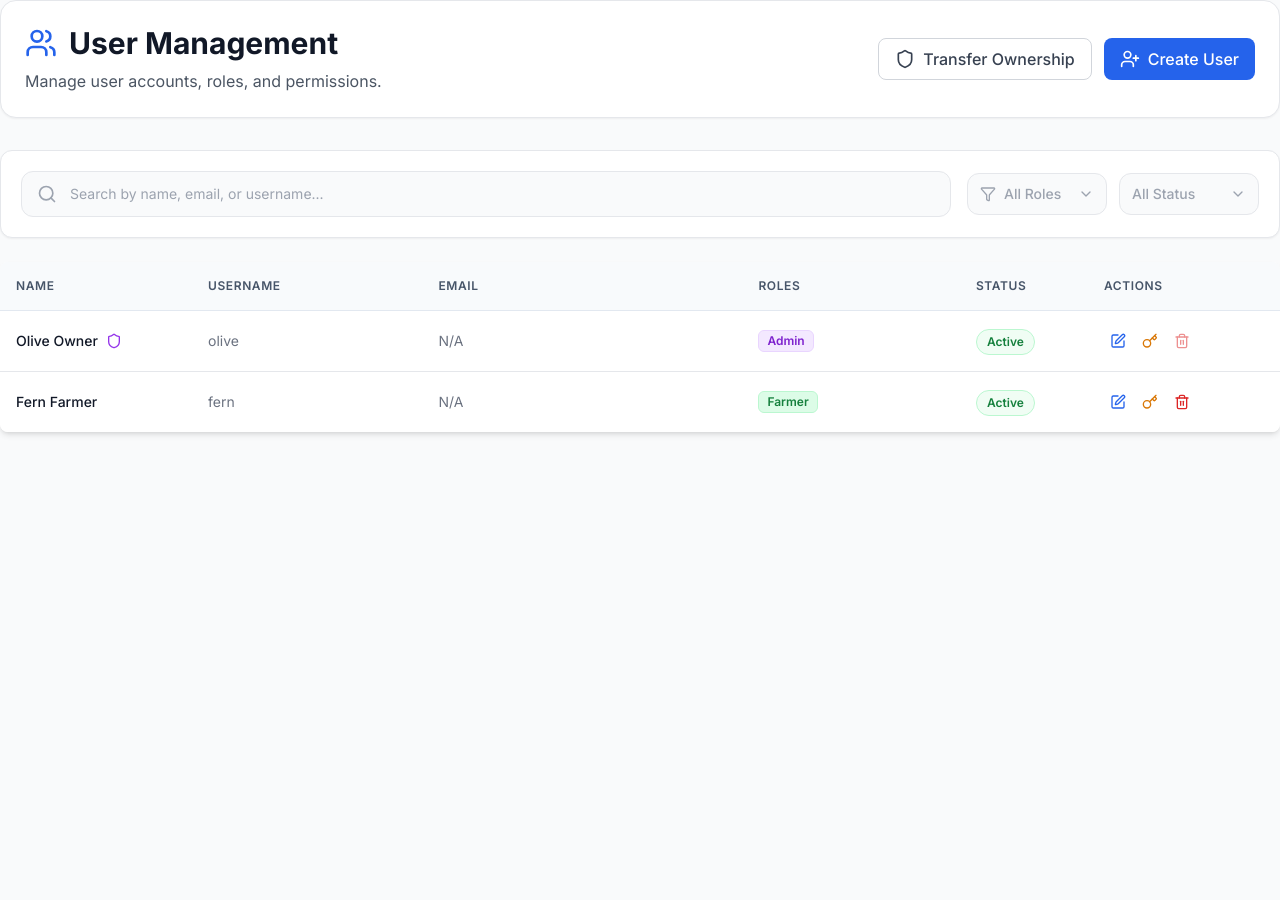
Test case: UserManagement password reset feedback › keeps the popup open with the reason when the reset fails, then retries
The width and height of the screenshot is (1280, 900).
Check: the text "Fern Farmer" is shown, box x1=16 y1=392 x2=97 y2=412
Step 1. Click the button titled "Reset password" in the row of "Fern Farmer" → {"x": 1150, "y": 402}, box x1=1136 y1=388 x2=1164 y2=416
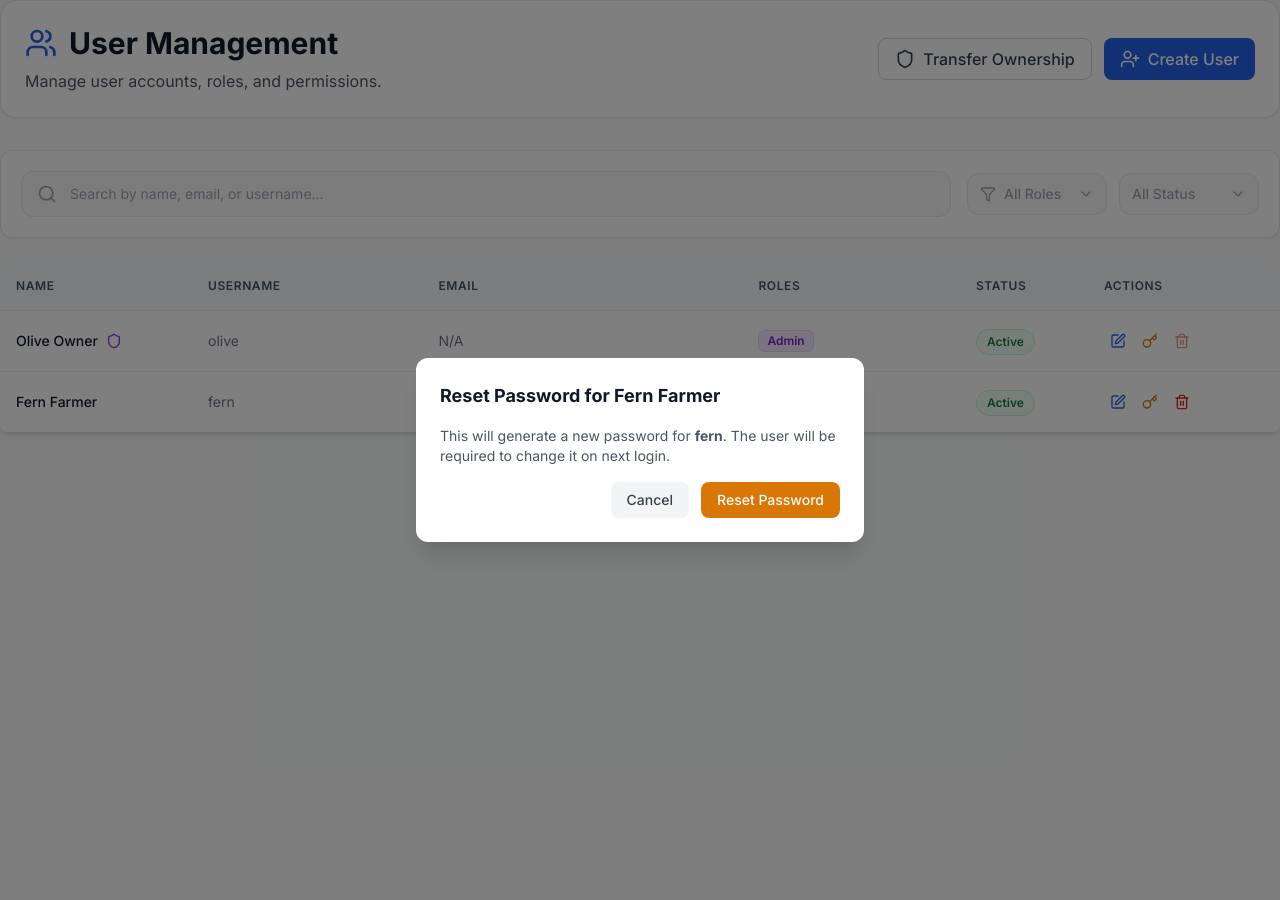
Step 2. Click the button "Reset Password" → {"x": 770, "y": 500}, box x1=701 y1=482 x2=840 y2=518
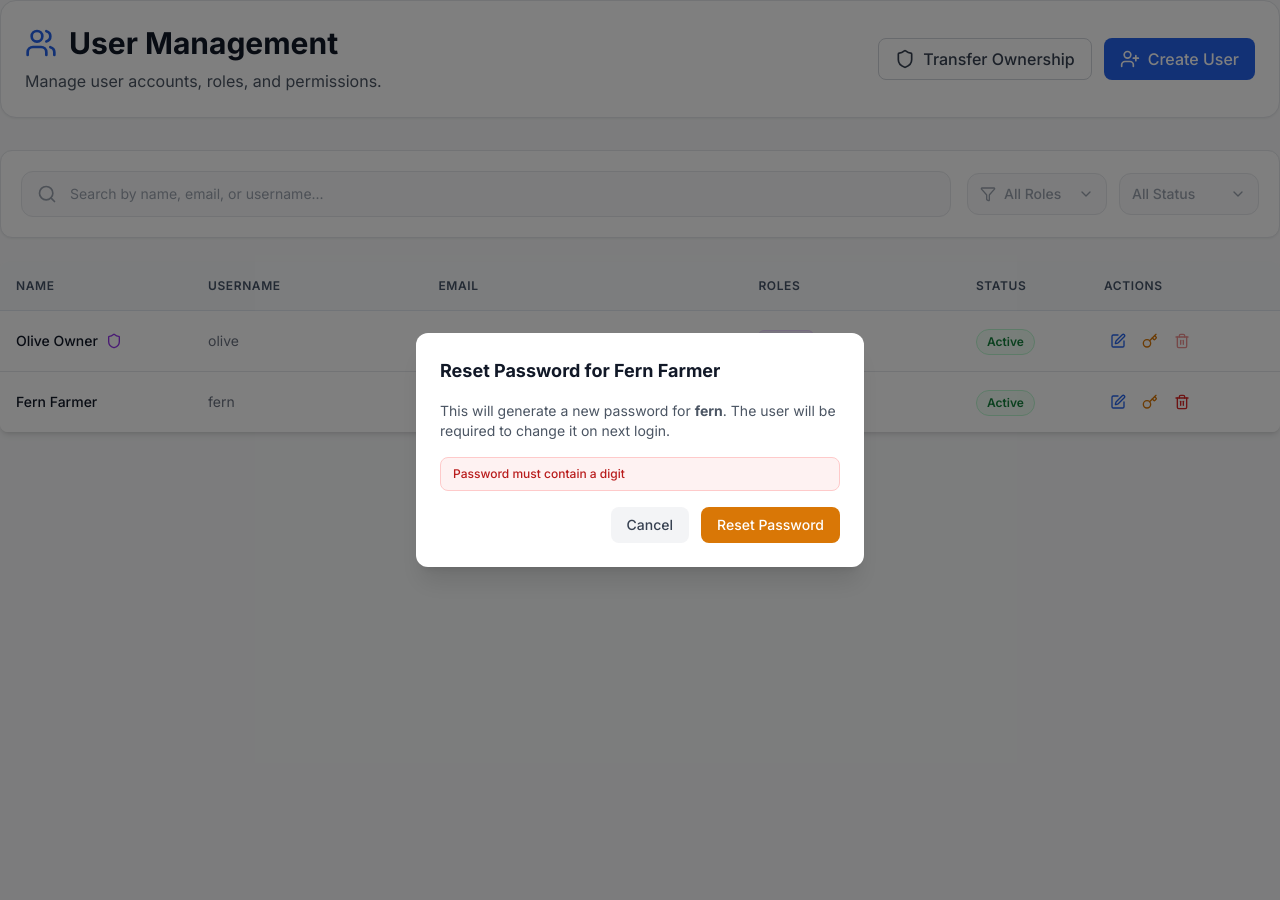
Check: the heading "Reset Password for Fern Farmer" is shown, box x1=440 y1=360 x2=720 y2=381
Check: the message reads "Password must contain a digit", box x1=453 y1=466 x2=625 y2=481
Step 3. Click the button "Reset Password" → {"x": 770, "y": 525}, box x1=701 y1=507 x2=840 y2=543
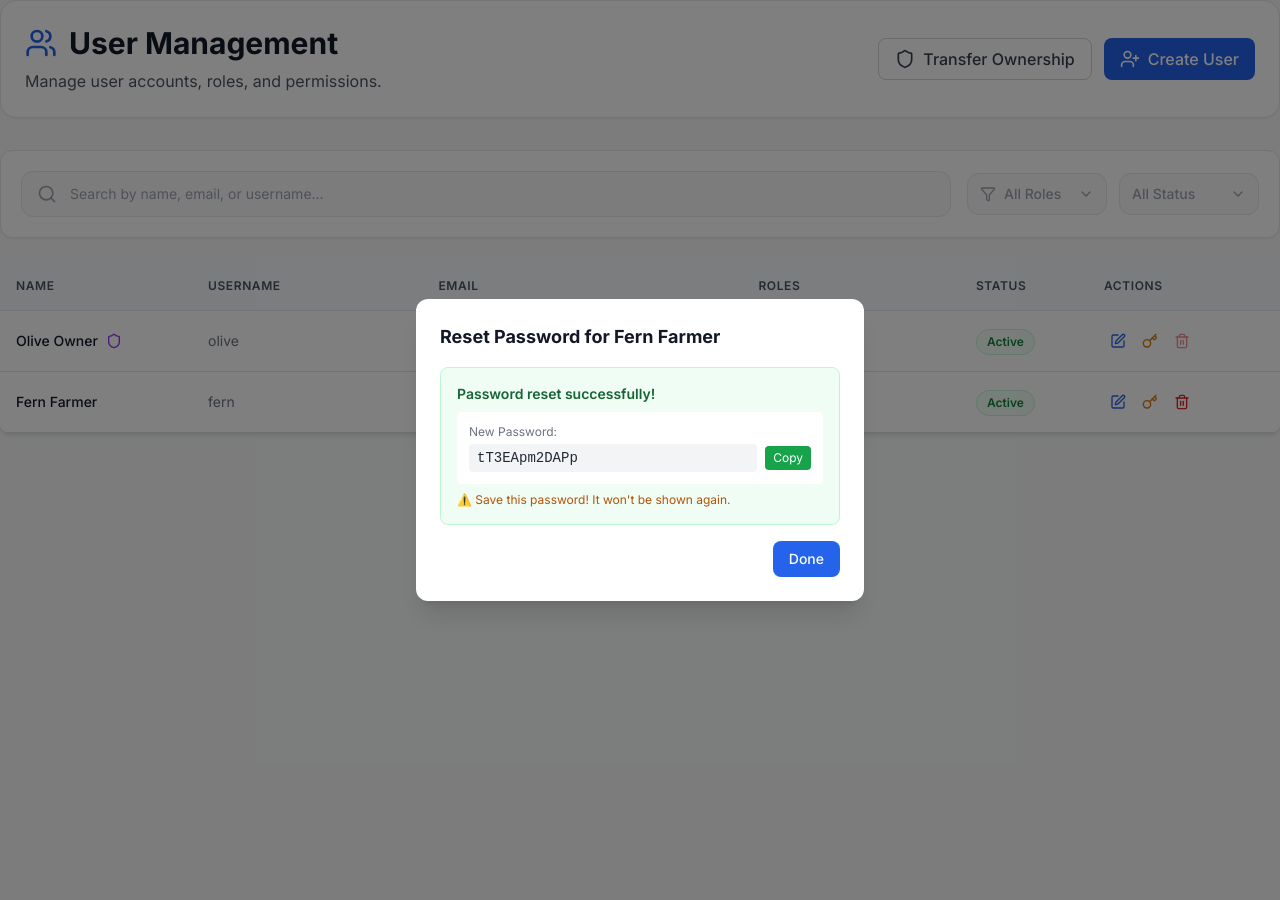
Check: the text "Password reset successfully!" is shown, box x1=457 y1=385 x2=655 y2=402
Check: the message "Password must contain a digit" is gone
